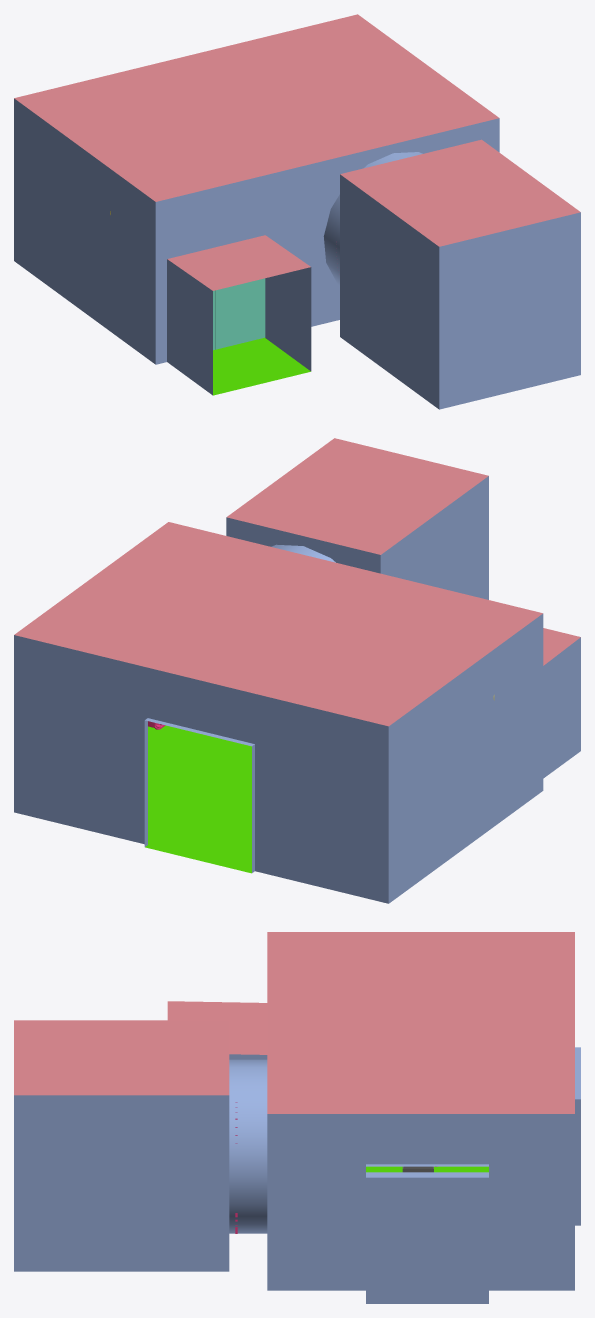
File: RoomS2.fbx
3 renders of one model, top to bottom at view 1: azimuth 30°, elevation 25°; view 2: azimuth 150°, elevation 25°; view 3: azimuth 270°, elevation 25°, orthographic. The views are drawn at different scales.
Visible parts, largest first — view 1: Plane.003, Plane.001, Plane.011, Двери.005; view 2: Plane.003, Plane.001, Plane.011; view 3: Plane.003, Plane.001, Cube.020, Plane.011.
Boxes of the visible parts, x1,y1,x2,y2 form: Plane.003: (14, 98, 580, 409); Plane.001: (14, 14, 580, 290); Plane.011: (213, 337, 310, 395); Двери.005: (215, 278, 265, 349); Plane.003: (14, 476, 580, 903); Plane.001: (14, 438, 580, 726); Plane.011: (145, 725, 251, 873); Plane.003: (14, 1047, 580, 1290); Plane.001: (14, 932, 574, 1113); Cube.020: (366, 1172, 488, 1303); Plane.011: (366, 1166, 488, 1172).
Size of the model in its own units: 752 by 318 by 922.
